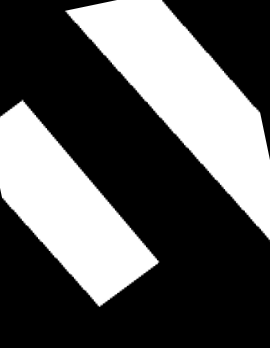parkingspot: (65, 0, 270, 240), (0, 100, 159, 307)
